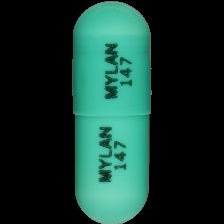67296-0319: (0, 0, 224, 224)
